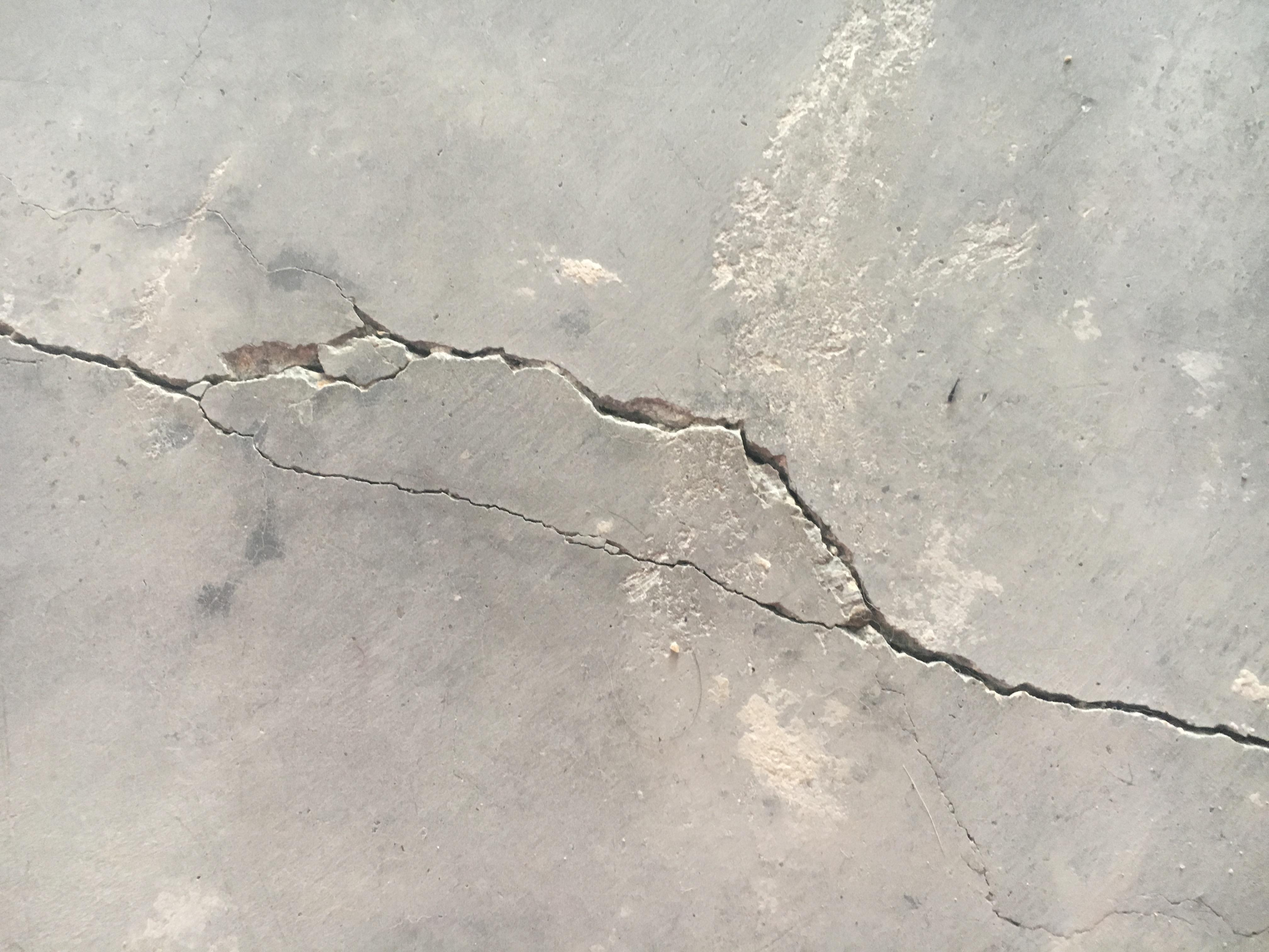Structural-Crack: (1, 221, 1269, 952)
